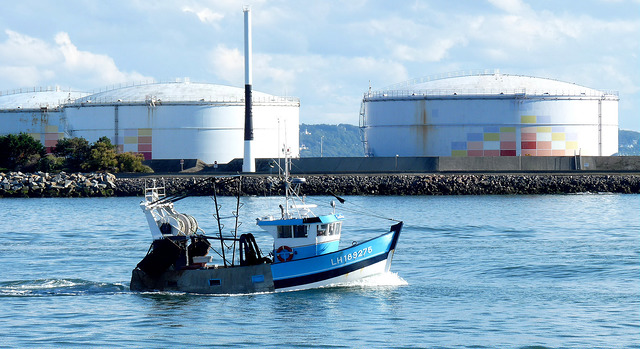fishing_boat: (133, 161, 419, 303)
